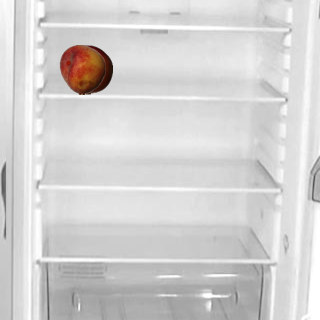Apple Braeburn: (62, 44, 112, 94)
Peach: (57, 44, 107, 94)
